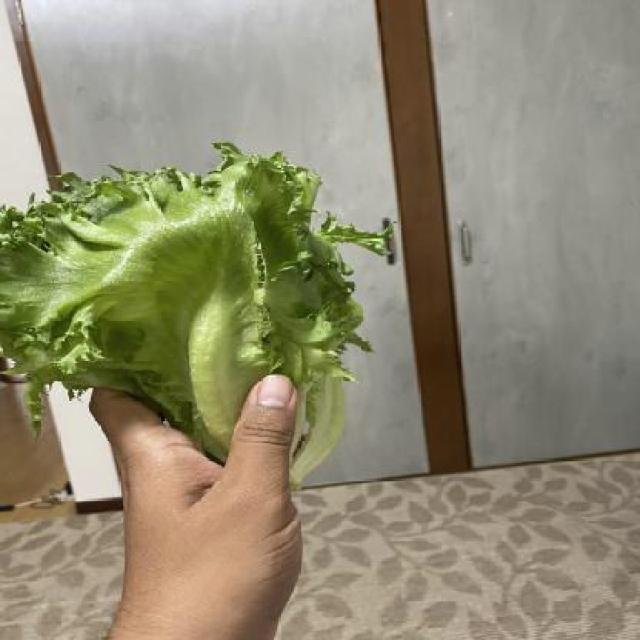Lettuce: (0, 143, 381, 490)
